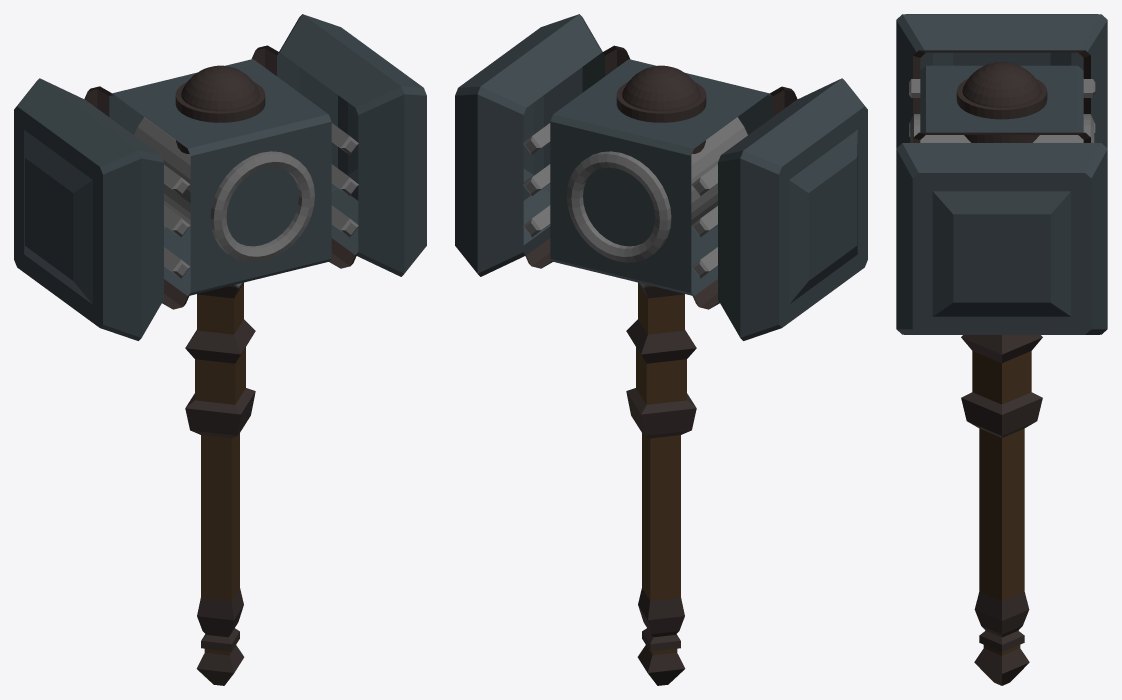
Rendered from gigamlotu2(1).fbx.
The picture shows the model from 3 angles, left to right: view 1: azimuth 30°, elevation 25°; view 2: azimuth 150°, elevation 25°; view 3: azimuth 270°, elevation 25°; orthographic projection.
Parts seen in each view (by area): view 1: Cylinder.001; view 2: Cylinder.001; view 3: Cylinder.001.
Boxes of the visible parts, x1,y1,x2,y2 form: Cylinder.001: (14,14,426,685); Cylinder.001: (455,14,867,685); Cylinder.001: (896,14,1107,685).
Size of the model in its own units: 61 by 104 by 32.43.
